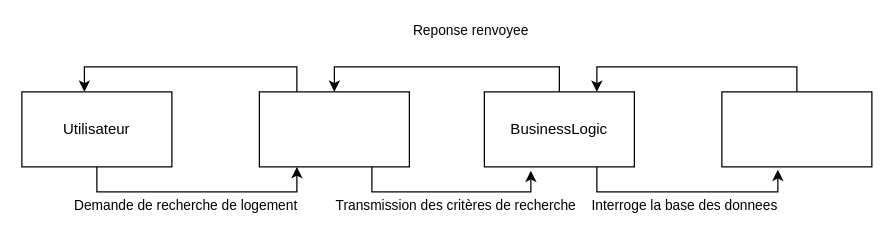
Image size: 894x234. Some labels were removed from this diagram. The centre of each missing label's shape, as x and y in pixels:
"API" belongs at (333,129).
"DataBase" belongs at (796,129).
